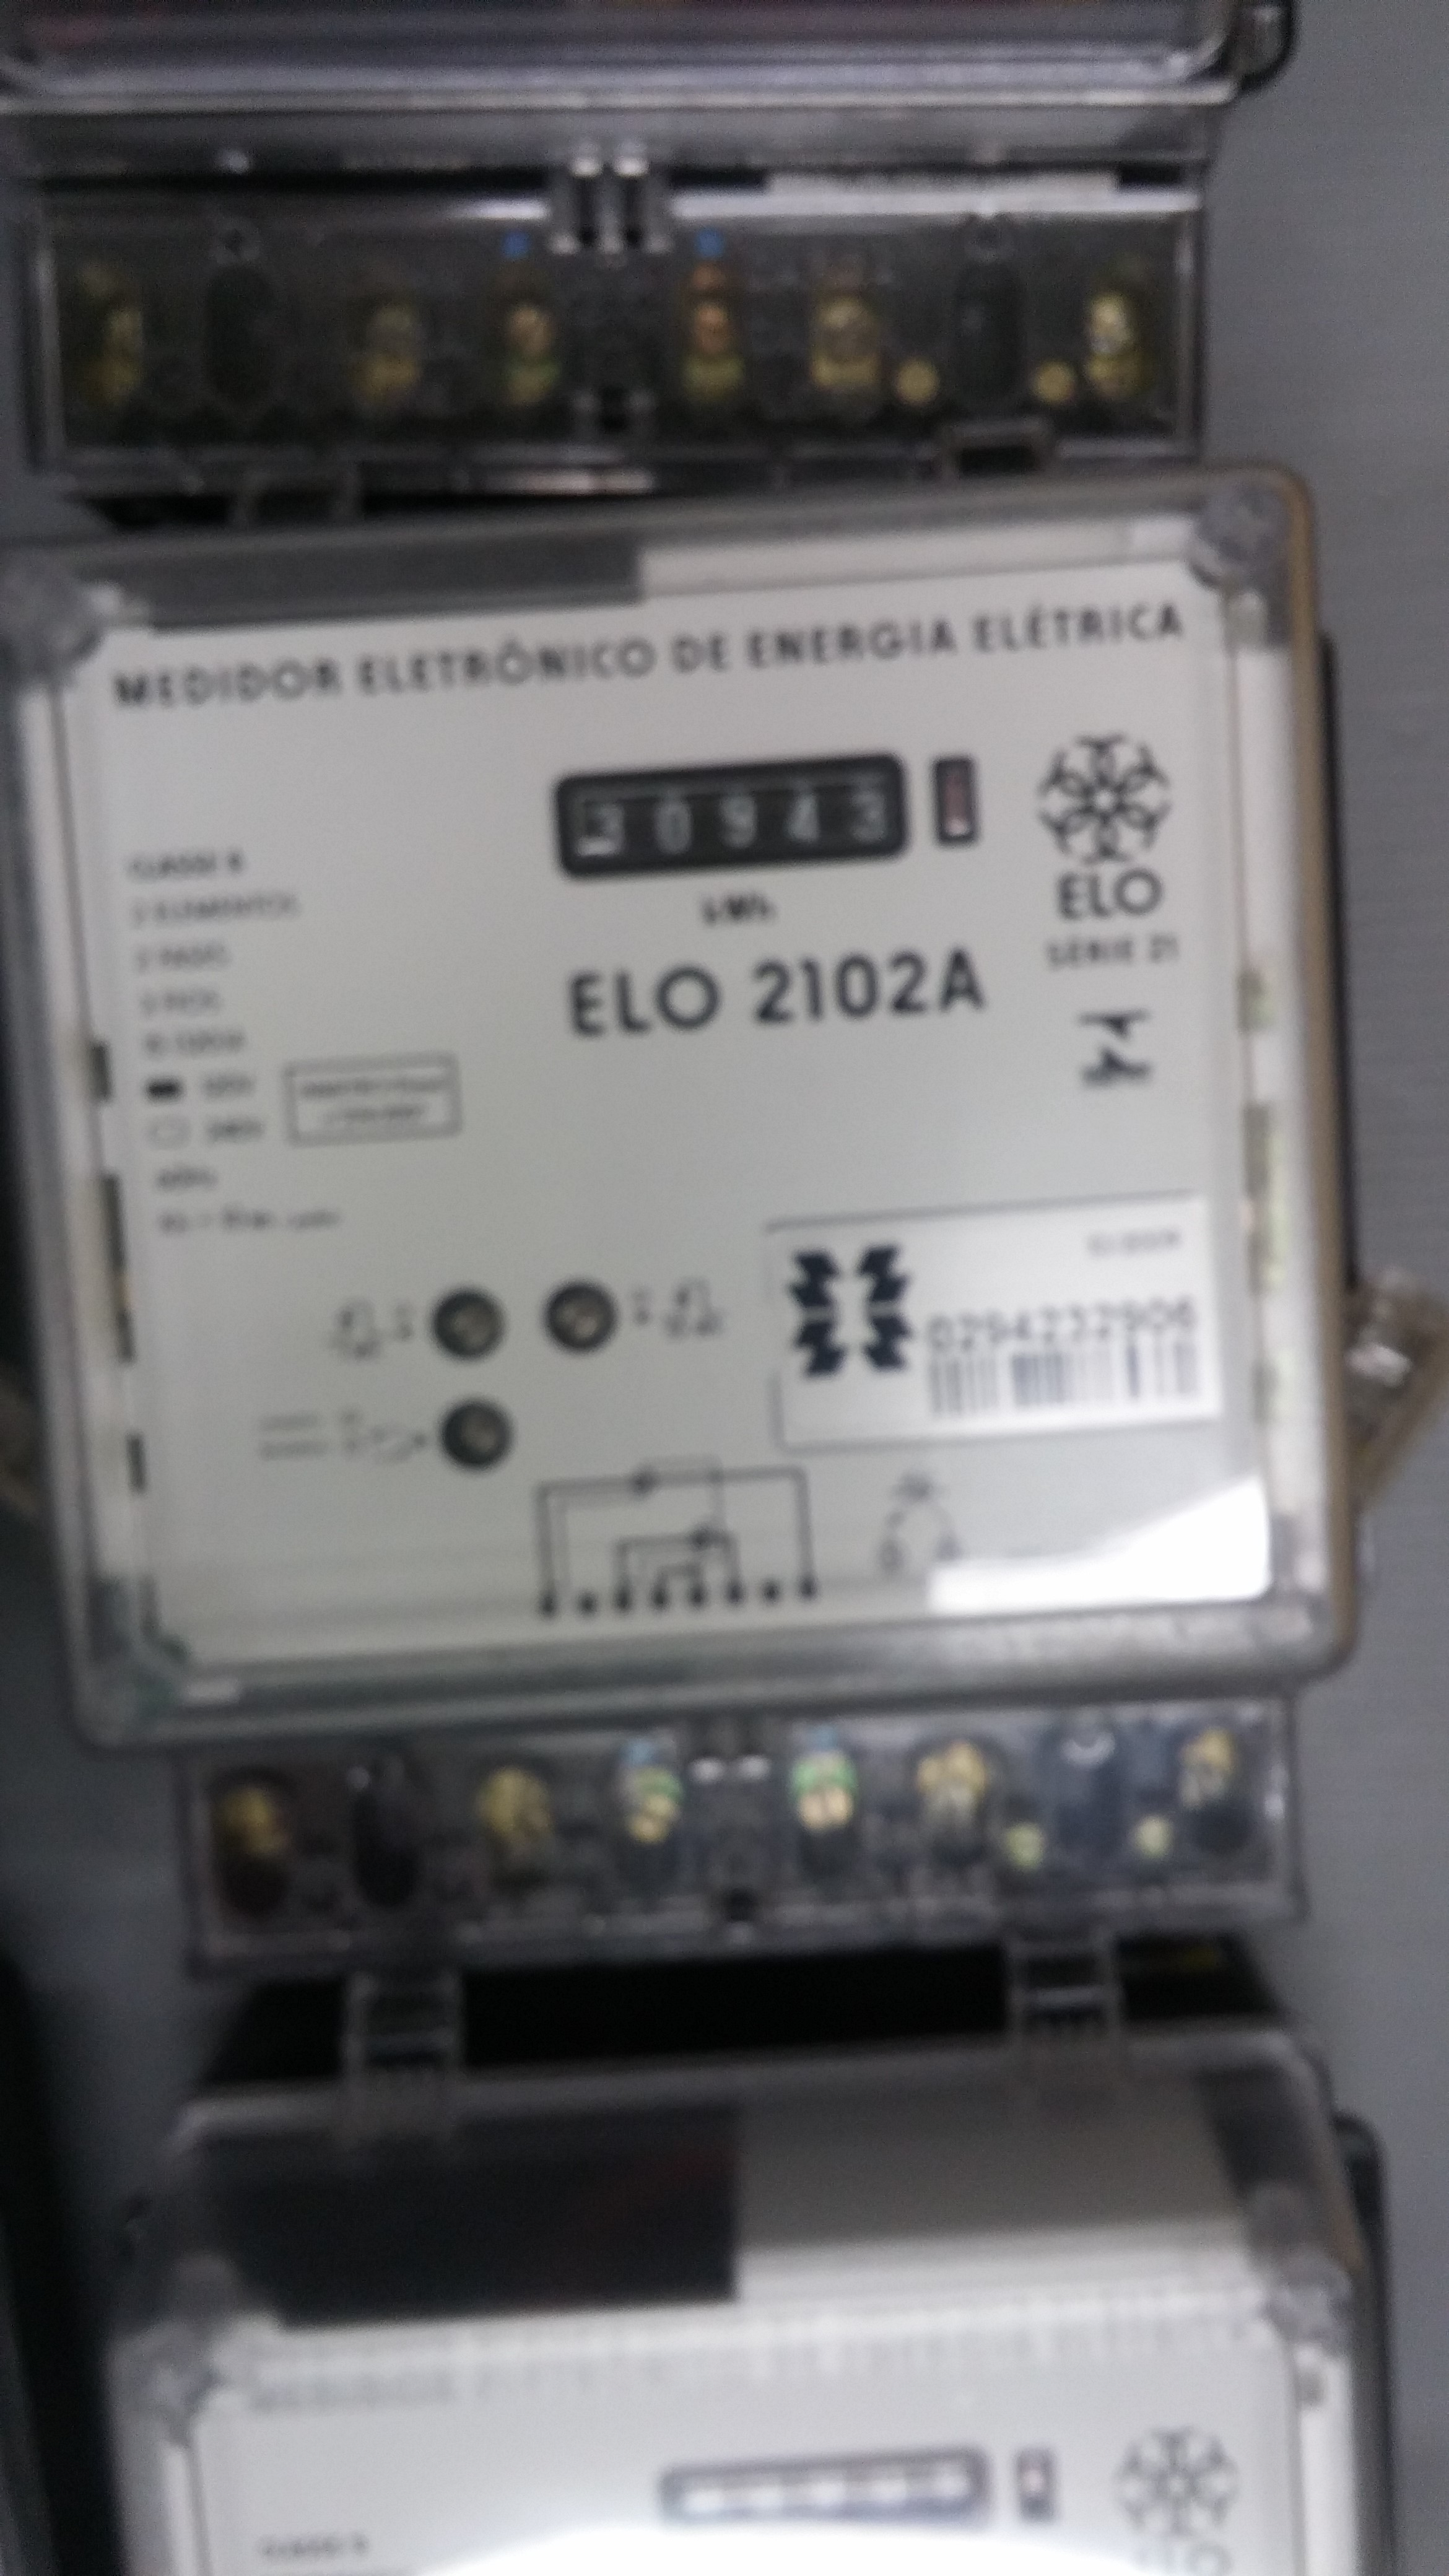counter2: (534, 768, 934, 886)
